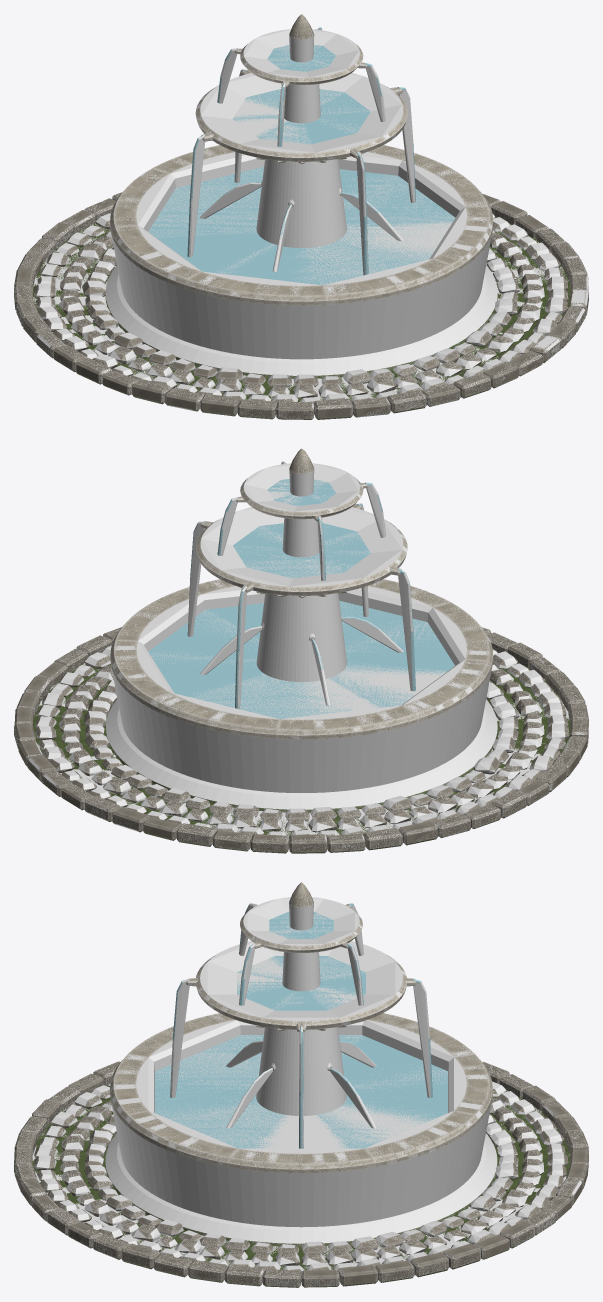
The model's file is ornate_fountain.glb.
The picture shows the model from 3 angles, top to bottom: view 1: azimuth 30°, elevation 25°; view 2: azimuth 150°, elevation 25°; view 3: azimuth 270°, elevation 25°; orthographic projection.
Parts seen in each view (by area): view 1: COL_ornate_fountain_237, COL_ornate_fountain_230, COL_ornate_fountain_302, COL_ornate_fountain_236, COL_ornate_fountain_231, basin_water_5, basin_7, basin_water_6, COL_ornate_fountain_354, basin_water_2, basin_0, COL_ornate_fountain_229 (+61 smaller); view 2: COL_ornate_fountain_235, COL_ornate_fountain_234, COL_ornate_fountain_302, COL_ornate_fountain_236, COL_ornate_fountain_233, basin_water_7, basin_water_3, basin_5, basin_water_2, COL_ornate_fountain_359, basin_4, COL_ornate_fountain_227 (+56 smaller); view 3: COL_ornate_fountain_232, COL_ornate_fountain_233, COL_ornate_fountain_231, COL_ornate_fountain_302, basin_water_4, basin_water_0, basin_2, basin_water_5, basin_water_7, basin_water_1, COL_ornate_fountain_224, COL_ornate_fountain_356 (+60 smaller).
Part boxes in pixels (x1,y1,x2,y2): COL_ornate_fountain_237: [185, 271, 326, 359]; COL_ornate_fountain_230: [324, 259, 453, 358]; COL_ornate_fountain_302: [256, 159, 346, 247]; COL_ornate_fountain_236: [111, 225, 201, 343]; COL_ornate_fountain_231: [429, 206, 493, 329]; basin_water_5: [148, 188, 257, 236]; basin_7: [185, 271, 326, 305]; basin_water_6: [155, 231, 273, 273]; COL_ornate_fountain_354: [338, 221, 452, 263]; basin_water_2: [344, 176, 455, 226]; basin_0: [323, 258, 453, 304]; COL_ornate_fountain_229: [182, 343, 327, 378]; COL_ornate_fountain_235: [277, 705, 418, 792]; COL_ornate_fountain_234: [150, 692, 279, 792]; COL_ornate_fountain_302: [256, 593, 346, 681]; COL_ornate_fountain_236: [401, 659, 491, 776]; COL_ornate_fountain_233: [110, 640, 173, 762]; basin_water_7: [345, 622, 454, 670]; basin_water_3: [150, 654, 265, 697]; basin_5: [277, 705, 418, 739]; basin_water_2: [148, 610, 259, 660]; COL_ornate_fountain_359: [330, 665, 445, 707]; basin_4: [150, 692, 279, 738]; COL_ornate_fountain_227: [276, 777, 420, 812]; COL_ornate_fountain_232: [228, 1148, 374, 1227]; COL_ornate_fountain_233: [365, 1111, 478, 1221]; COL_ornate_fountain_231: [124, 1111, 236, 1221]; COL_ornate_fountain_302: [256, 1027, 346, 1115]; basin_water_4: [343, 1071, 447, 1119]; basin_water_0: [155, 1071, 259, 1119]; basin_2: [228, 1148, 374, 1173]; basin_water_5: [341, 1035, 447, 1087]; basin_water_7: [155, 1035, 261, 1087]; basin_water_1: [171, 1104, 283, 1148]; COL_ornate_fountain_224: [226, 1221, 376, 1246]; COL_ornate_fountain_356: [320, 1104, 431, 1148].
Bounding box in the file's own units: 5.05 × 2.76 × 5.05.
4 materials, 4 textured.
